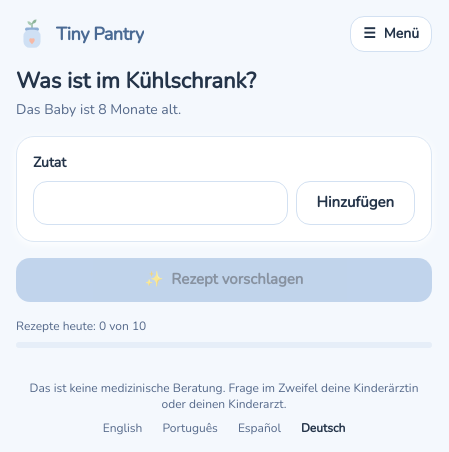
the open menu is fully in de
Click the button "☰ Menü" at (391, 34), box [350,16,432,52]
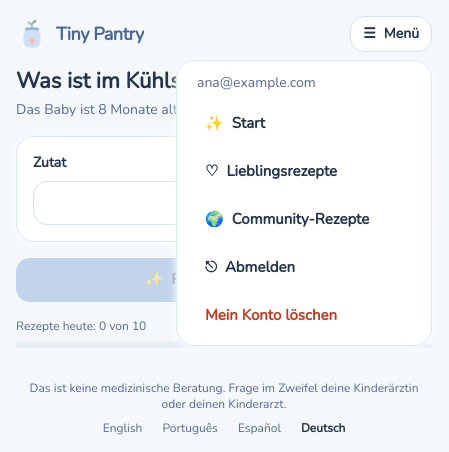
Expected: the button "✨ Start" is shown, [185,101,423,145]
Expected: the button "♡ Lieblingsrezepte" is shown, [185,149,423,193]
Expected: the button "🌍 Community-Rezepte" is shown, [185,197,423,241]
